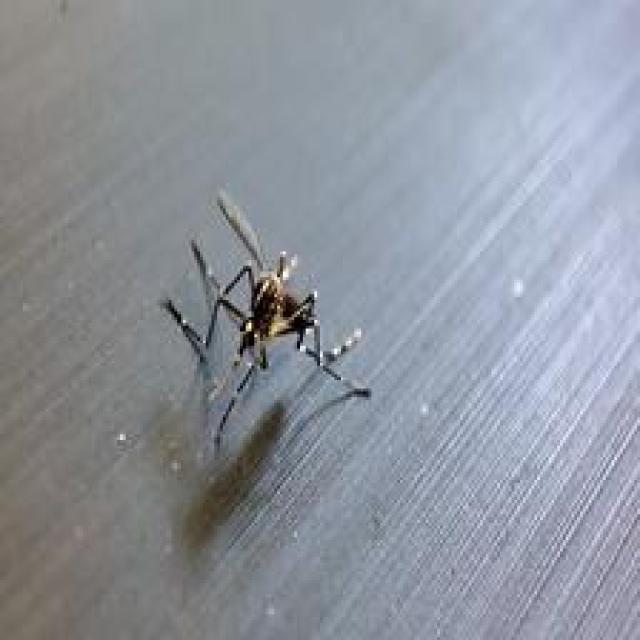Aedes albopictus: (160, 187, 371, 450)
